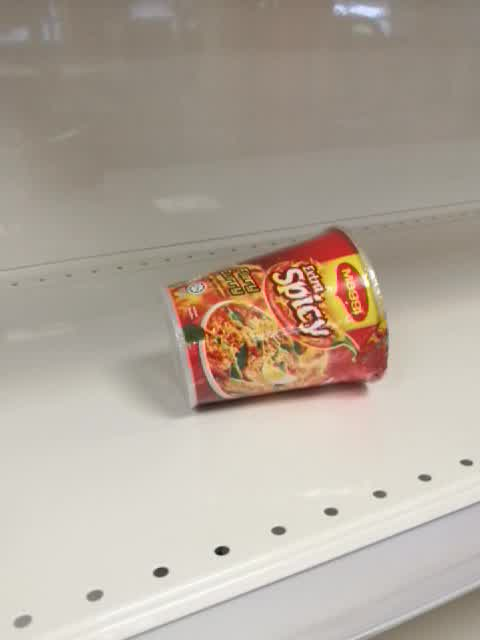maggi: (160, 224, 391, 409)
